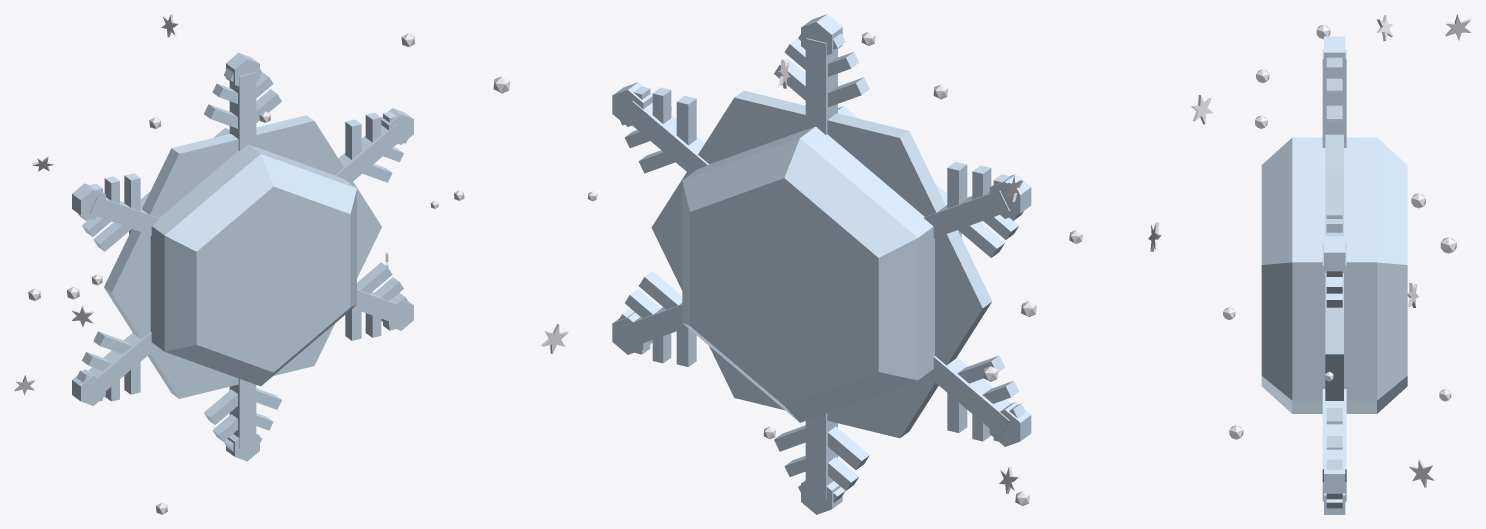
3 renders of one model, left to right at view 1: azimuth 30°, elevation 25°; view 2: azimuth 150°, elevation 25°; view 3: azimuth 270°, elevation 25°, orthographic. The views are drawn at different scales.
Parts seen in each view (by area): view 1: Snowflake, Snow; view 2: Snowflake, Snow; view 3: Snowflake, Snow.
Part boxes in pixels (left/top/right/bottom): Snowflake: left=72, top=52, right=413, bottom=461; Snow: left=14, top=14, right=464, bottom=514; Snowflake: left=612, top=14, right=1031, bottom=514; Snow: left=493, top=31, right=1161, bottom=505; Snowflake: left=1261, top=36, right=1407, bottom=514; Snow: left=1191, top=14, right=1471, bottom=487.
Size of the model in its own units: 4.59 by 4.07 by 2.12.
